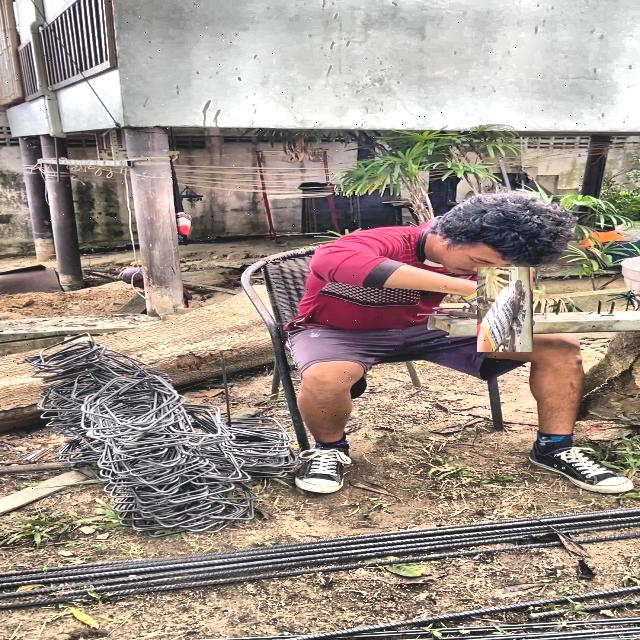gloved: (470, 274, 541, 344)
